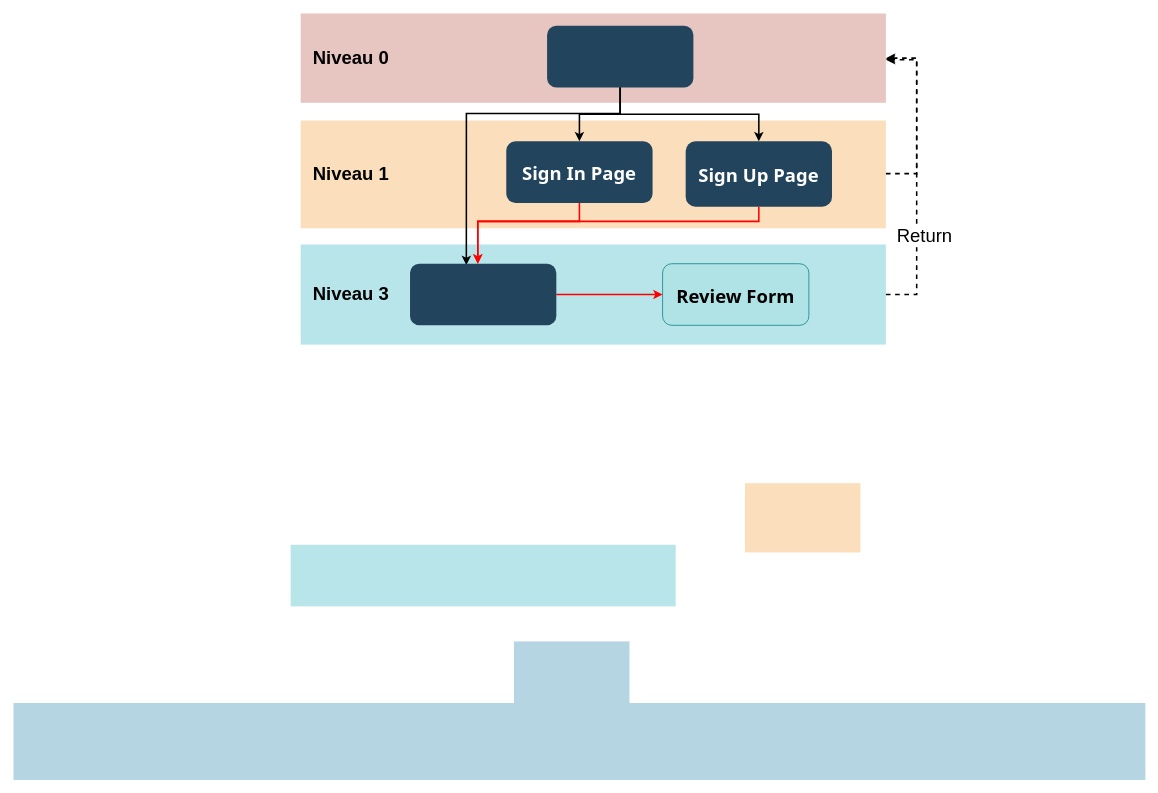
Some shapes in this 1158 by 793 pixel diagram are drawn without their labels. Each missing label, with the centre of its shape:
"Course Review Page" goes at (483,294).
"Home Page" goes at (620,56).
